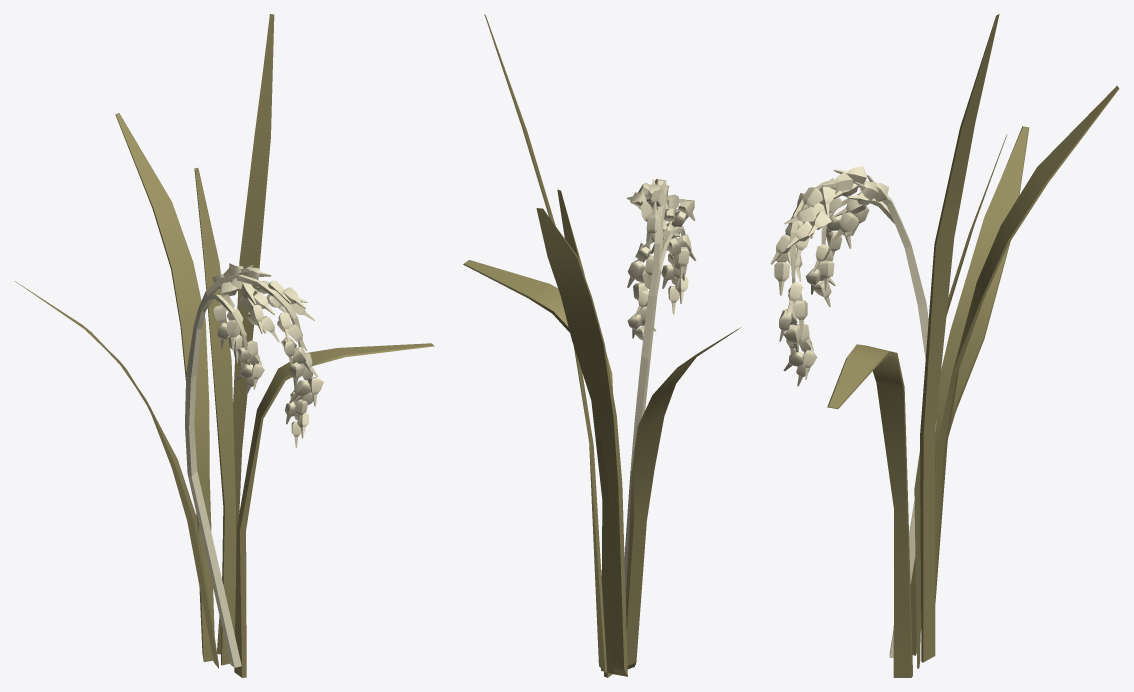
The model's file is RicePlant.glb.
The picture shows the model from 3 angles, left to right: view 1: azimuth 30°, elevation 25°; view 2: azimuth 150°, elevation 25°; view 3: azimuth 270°, elevation 25°; orthographic projection. The views are drawn at different scales.
Parts seen in each view (by area): view 1: pCube4 group12 pCube7 (×2), group12 pCube5 pCube8 (×2), group11 pPlane1, group12 pCube6; view 2: group12 pCube5 pCube8 (×2), pCube4 group12 pCube7 (×2), group11 pPlane1, group12 pCube6; view 3: group12 pCube5 pCube8 (×2), pCube4 group12 pCube7 (×2), group12 pCube6, group11 pPlane1.
Part boxes in pixels (x1,y1,x2,y2): pCube4 group12 pCube7 (×2): [194, 14, 274, 665]; group12 pCube5 pCube8 (×2): [15, 113, 218, 668]; group11 pPlane1: [185, 275, 303, 667]; group12 pCube6: [234, 343, 434, 677]; group12 pCube5 pCube8 (×2): [536, 208, 741, 676]; pCube4 group12 pCube7 (×2): [484, 14, 615, 674]; group11 pPlane1: [624, 184, 669, 600]; group12 pCube6: [463, 260, 613, 677]; group12 pCube5 pCube8 (×2): [910, 86, 1119, 655]; pCube4 group12 pCube7 (×2): [914, 14, 1007, 668]; group12 pCube6: [827, 344, 912, 677]; group11 pPlane1: [790, 179, 936, 657].
Bounding box in the file's own units: 37.52 × 65.75 × 29.6.
